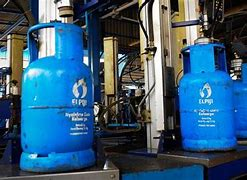blue_gas: (21, 23, 95, 170), (179, 44, 237, 150), (230, 62, 247, 137)
